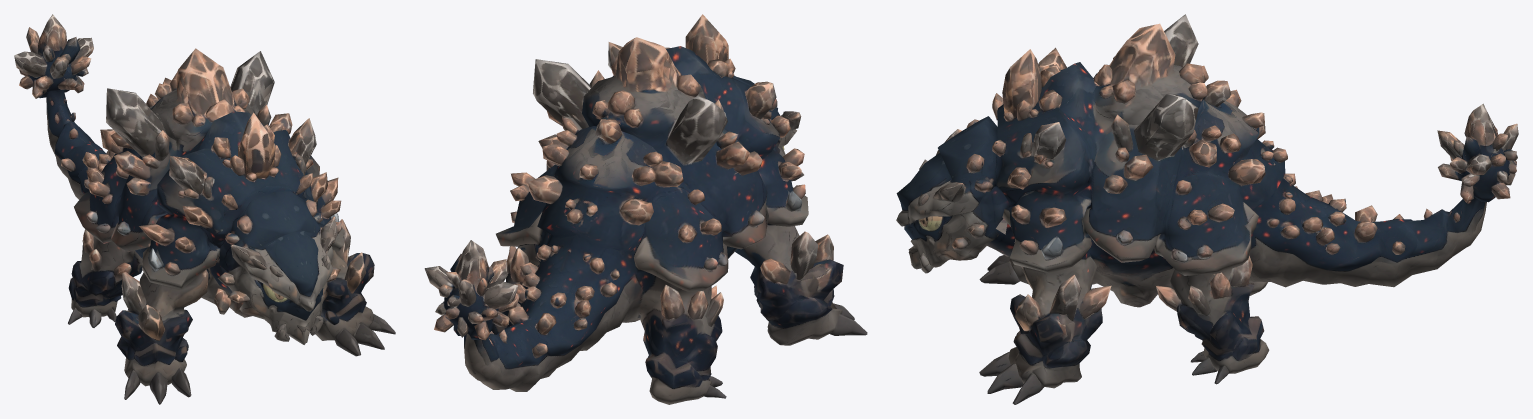
Rendered from Pok32. Colossoreps.glb.
3 renders of one model, left to right at view 1: azimuth 30°, elevation 25°; view 2: azimuth 150°, elevation 25°; view 3: azimuth 270°, elevation 25°, orthographic. The views are drawn at different scales.
Size of the model in its own units: 0.5425 by 0.5234 by 0.957.
1 material, 1 textured.
